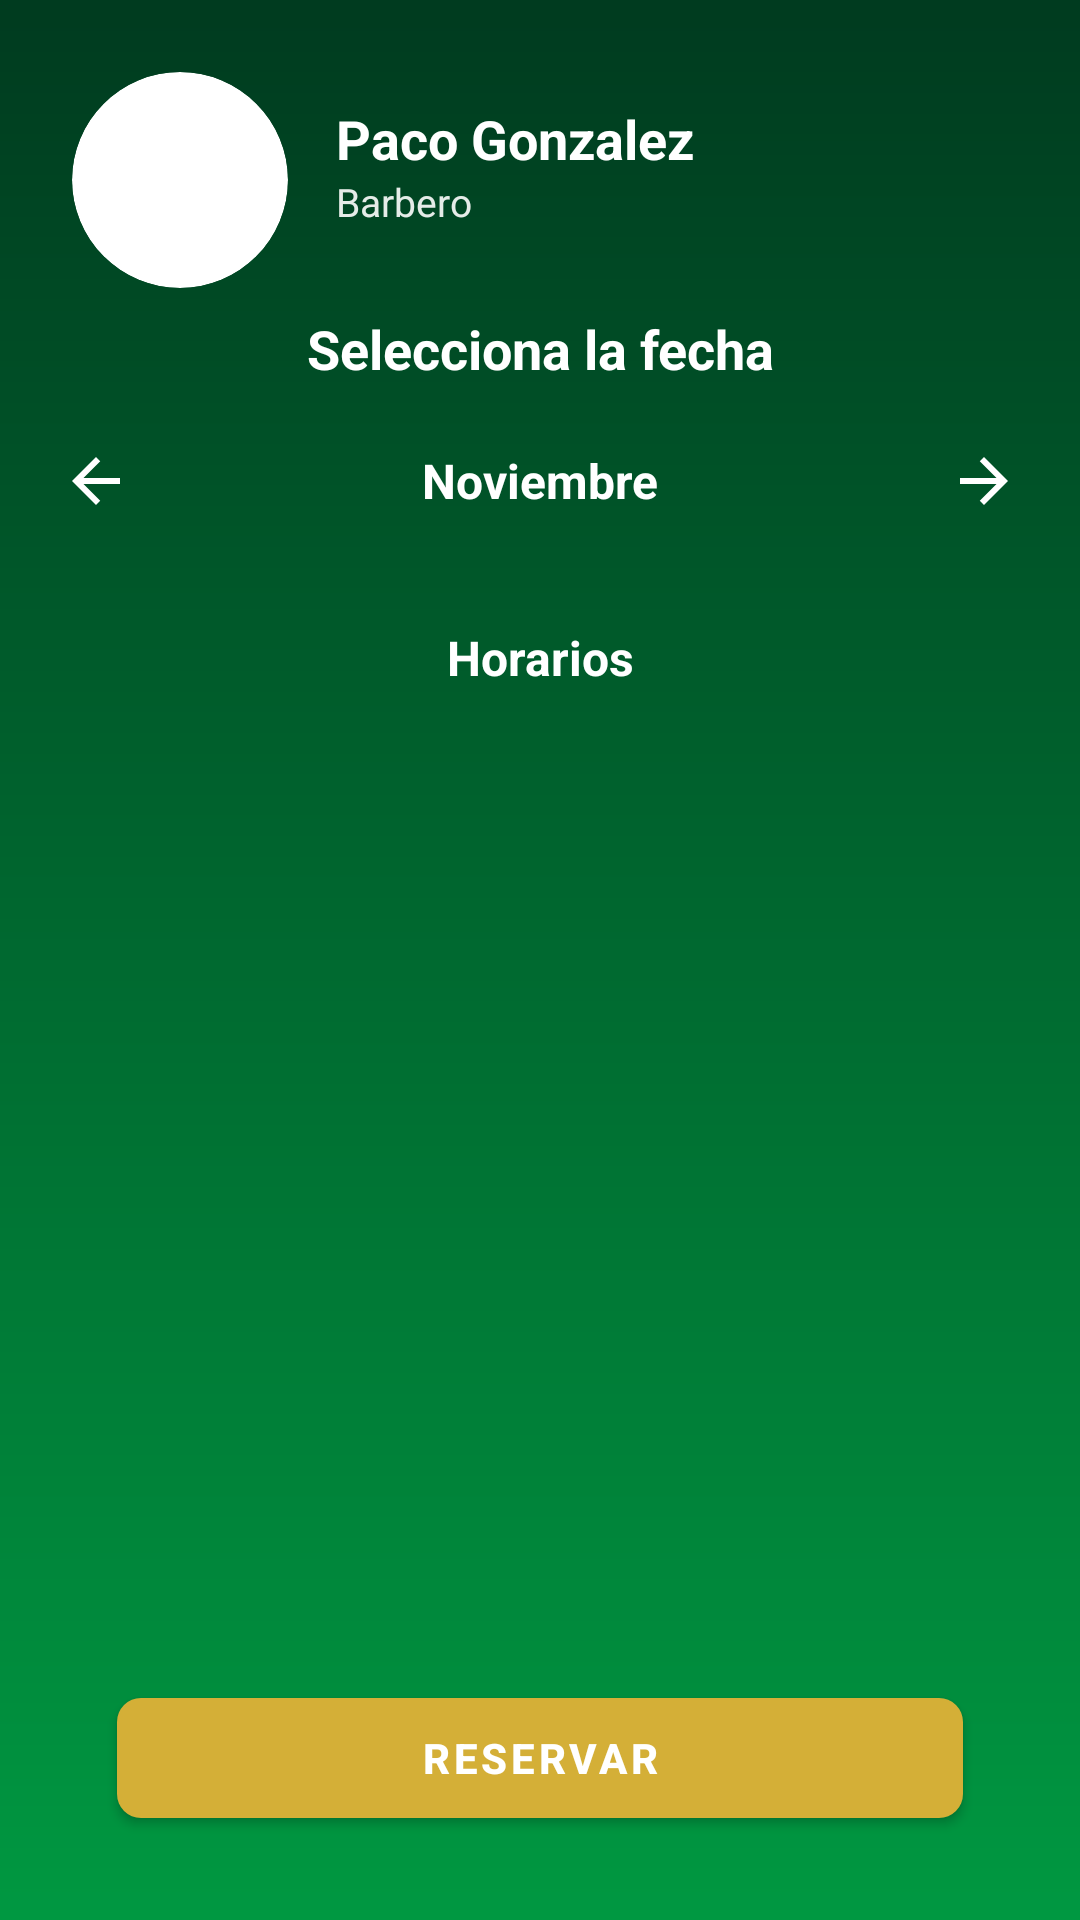

Screen size 1080w x 1920h. Icon name, then its box in pixels as (x1, y1, x2, y2):
Mes anterior: (72, 457, 120, 505)
Mes siguiente: (960, 457, 1008, 505)
